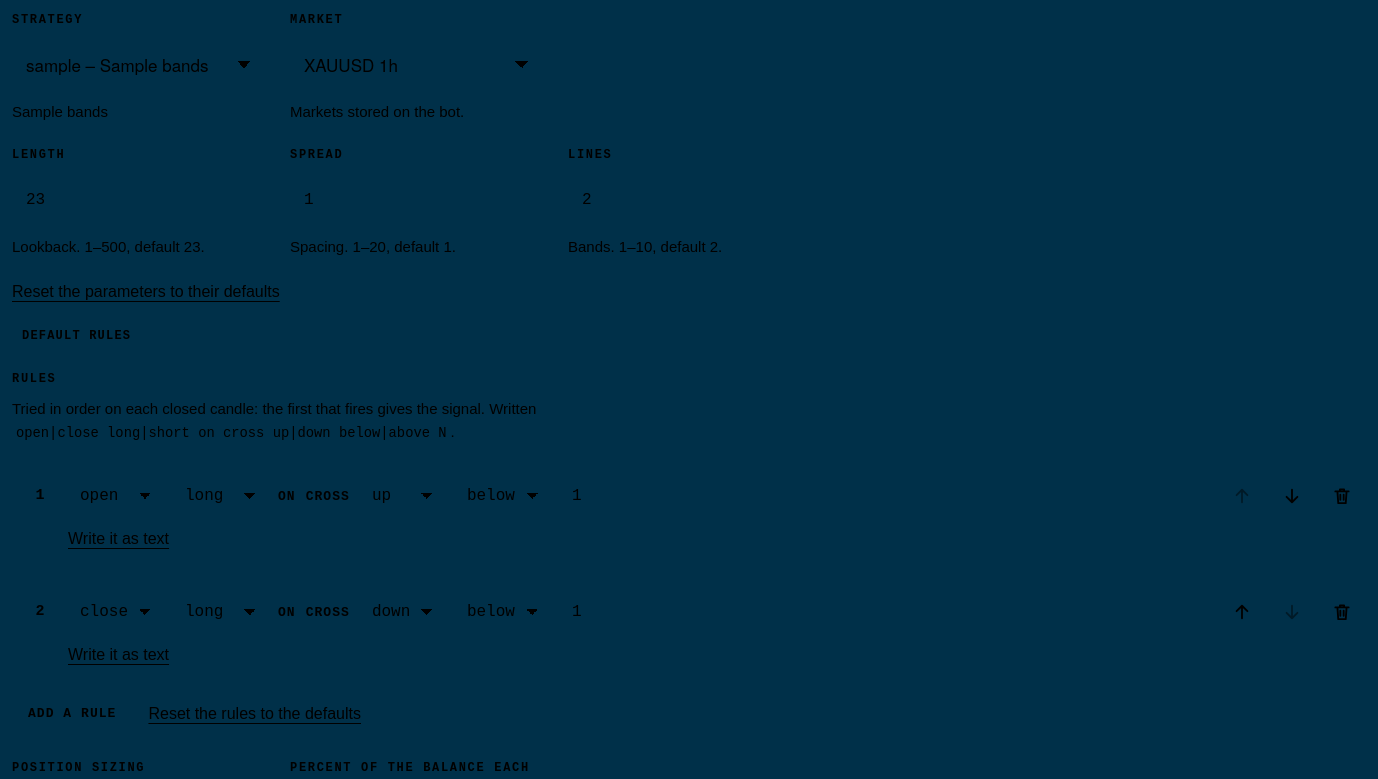
the rule editor › keeps the controls while a number is half typed, and says what is missing
Clear the number field named "Rule 1: number after below or above" at [604, 496], box [560, 474, 648, 518]
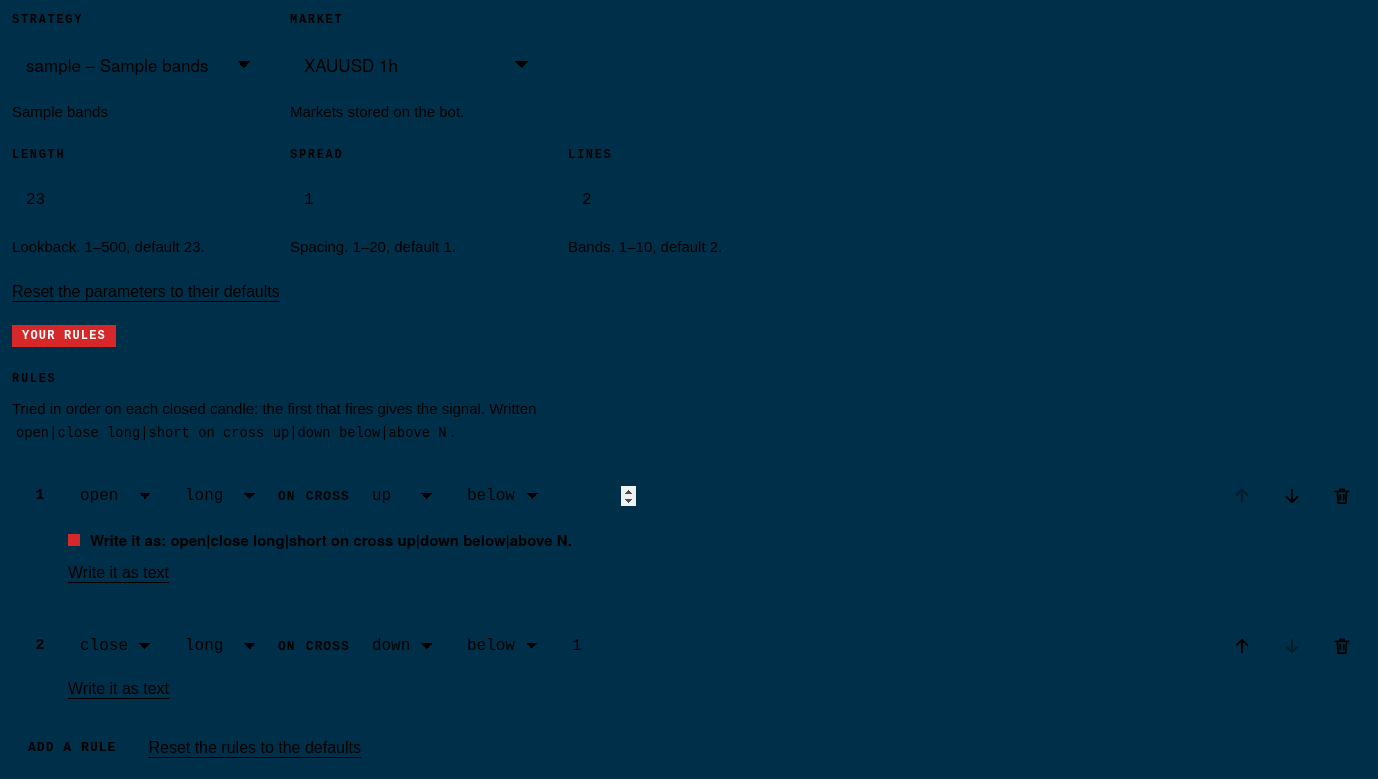
Result: the text "Write it as: open|close long|short on cross up|down below|above N." is shown at [90, 529, 572, 551]
